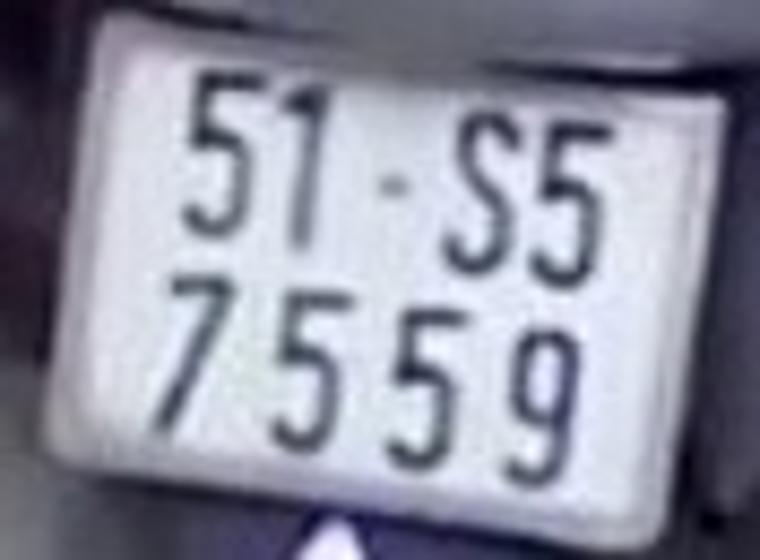-: (366, 167, 414, 198)
1: (276, 77, 333, 255)
5: (380, 300, 467, 475), (529, 119, 617, 292), (181, 67, 265, 246), (274, 278, 346, 460)
7: (147, 275, 237, 430)
9: (500, 323, 574, 490)
S: (436, 110, 512, 279)
